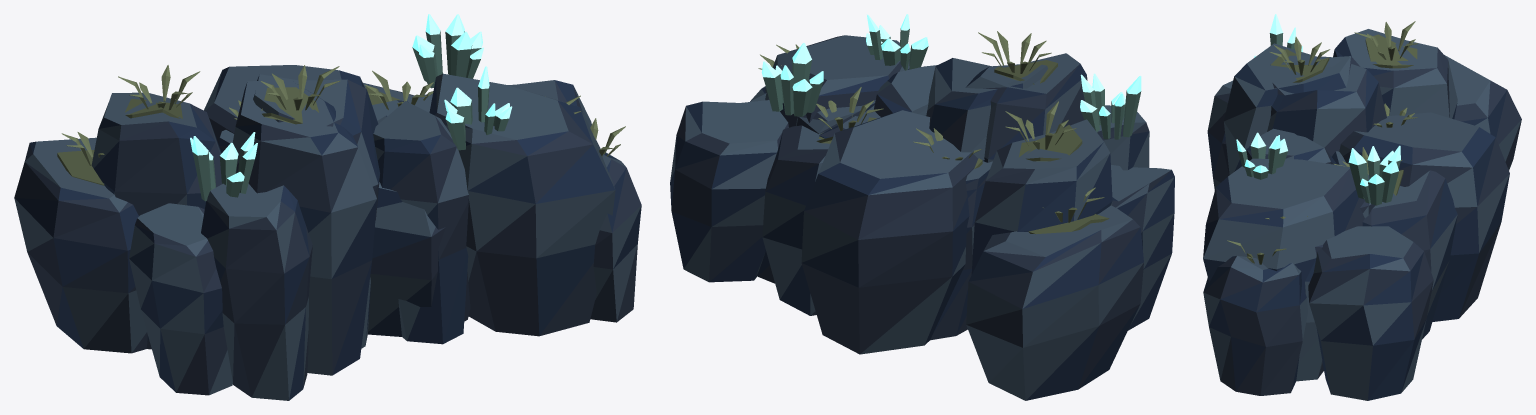
Rendered from mineral-shelf.glb.
The picture shows the model from 3 angles, left to right: view 1: azimuth 30°, elevation 25°; view 2: azimuth 150°, elevation 25°; view 3: azimuth 270°, elevation 25°; orthographic projection. The views are drawn at different scales.
Visible parts, largest first — view 1: mineral-shelf; view 2: mineral-shelf; view 3: mineral-shelf.
Part boxes in pixels (x1,y1,x2,y2): mineral-shelf: (14,14,641,400); mineral-shelf: (670,14,1174,400); mineral-shelf: (1203,14,1521,400).
Size of the model in its own units: 9.6 by 4.84 by 6.15.
